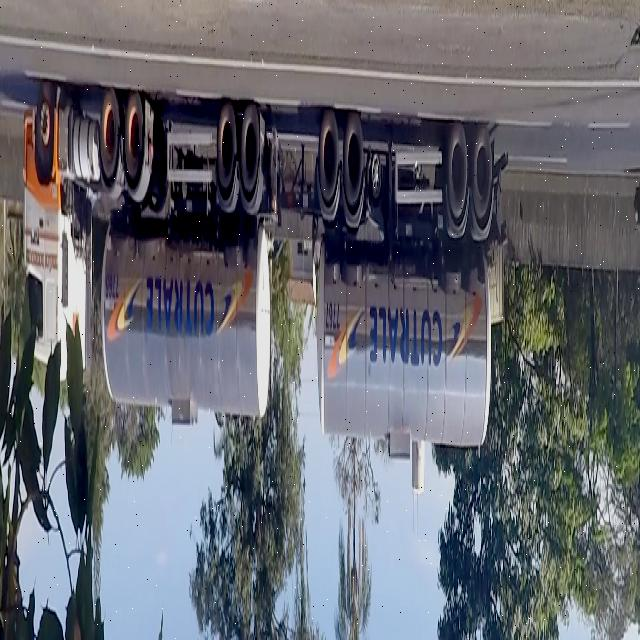-axle: (471, 117, 494, 237), (317, 103, 341, 206), (34, 72, 56, 180), (123, 82, 146, 185), (446, 112, 466, 228), (342, 101, 363, 211), (215, 96, 237, 195), (97, 94, 119, 188), (239, 101, 261, 192)
